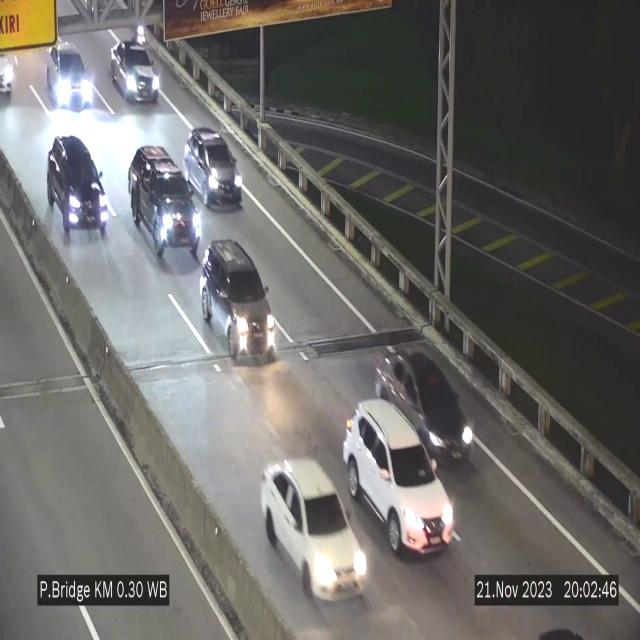Car: (343, 399, 455, 555), (260, 459, 368, 601), (376, 349, 476, 481), (200, 238, 276, 361), (126, 141, 200, 255), (46, 131, 112, 238), (184, 127, 242, 209), (46, 42, 96, 114), (110, 40, 160, 101)
